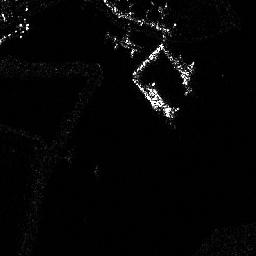ship: (146, 84, 175, 118)
